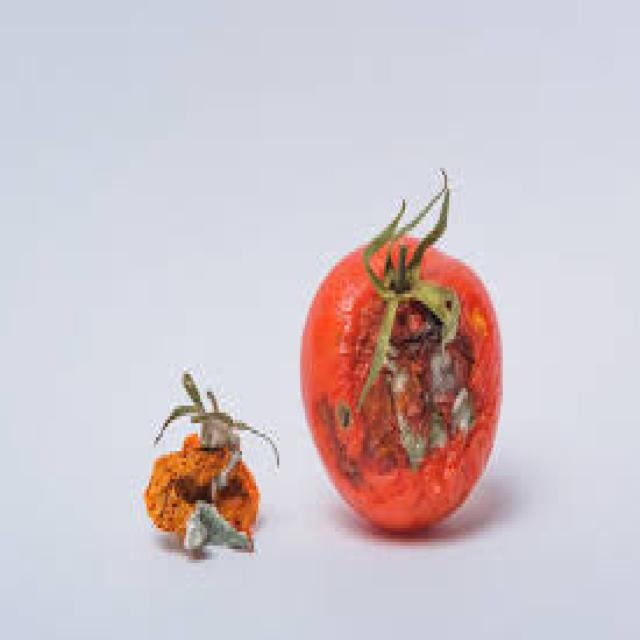food_waste: (300, 175, 500, 528), (144, 374, 258, 549)
